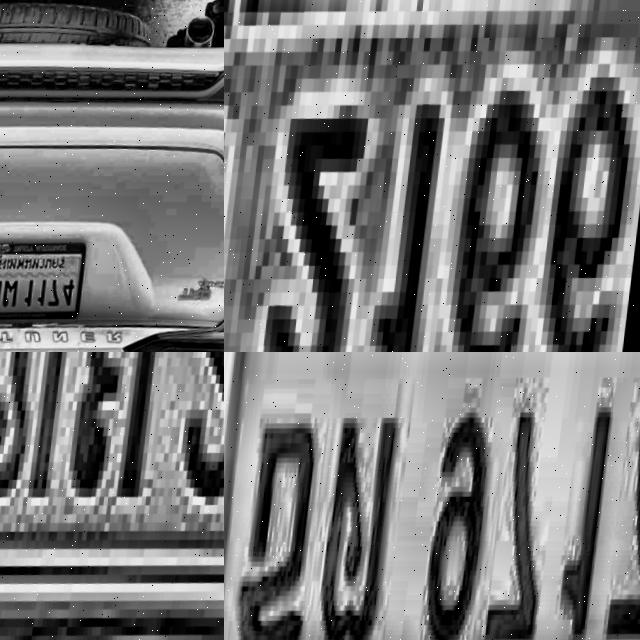license-plate: (224, 0, 640, 352), (224, 352, 640, 640), (0, 352, 224, 636), (0, 238, 92, 336)
